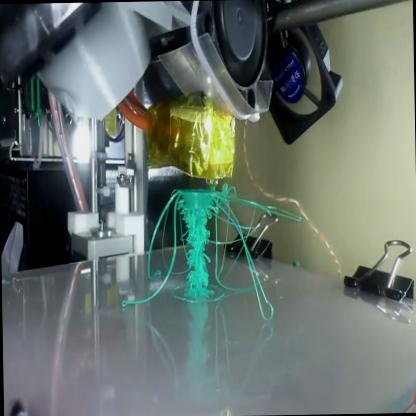fail: (212, 181, 303, 325)
